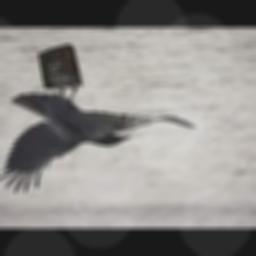Crow: (0, 87, 196, 195)
